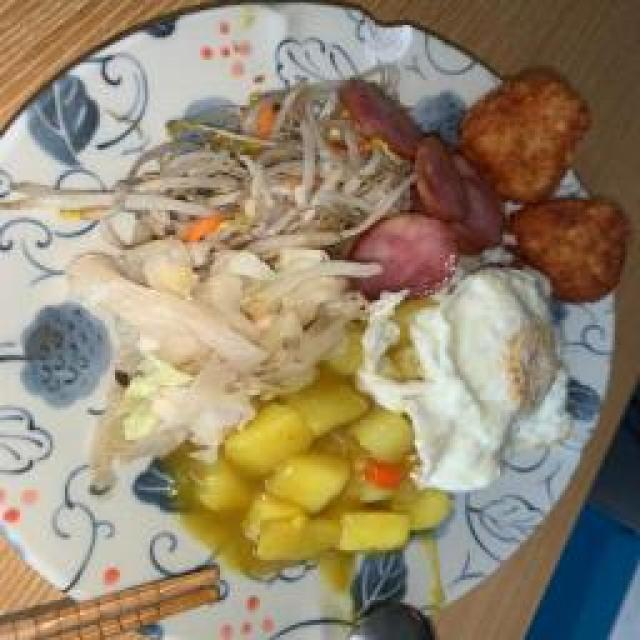Wet Waste: (110, 248, 328, 438), (468, 67, 632, 315), (398, 265, 572, 493), (348, 85, 510, 310), (245, 382, 413, 580), (178, 115, 350, 243)
